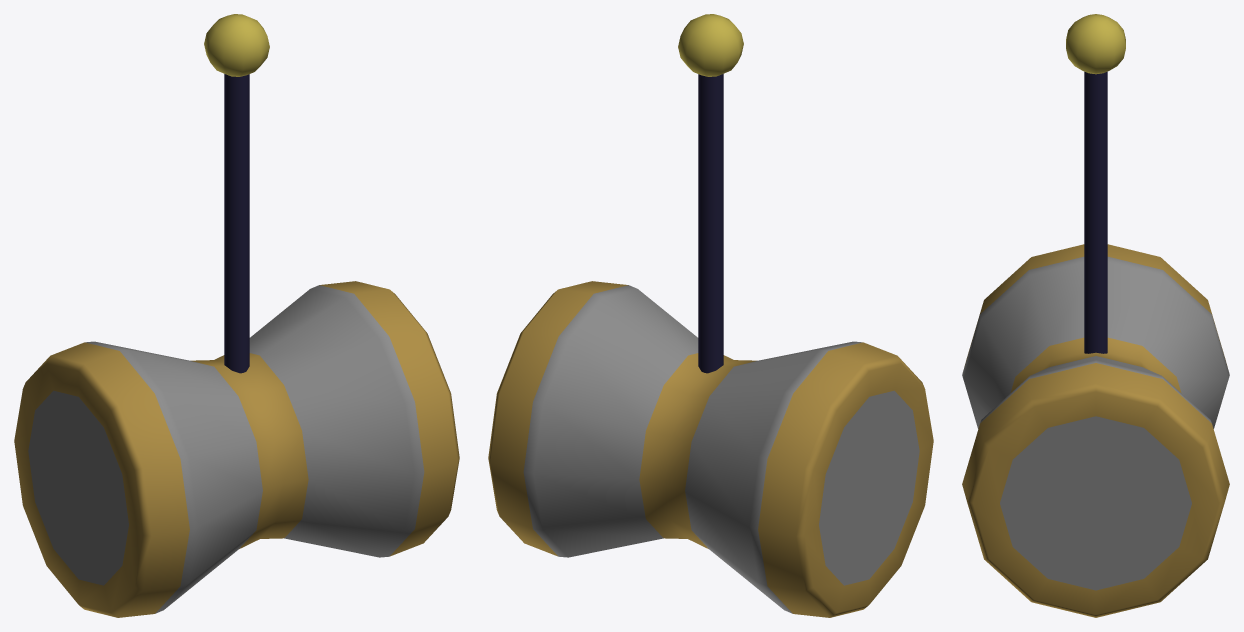
File: Obstacle_01_02.fbx
3 renders of one model, left to right at view 1: azimuth 30°, elevation 25°; view 2: azimuth 150°, elevation 25°; view 3: azimuth 270°, elevation 25°, orthographic. The views are drawn at different scales.
Visible parts, largest first — view 1: Obstacle_0102; view 2: Obstacle_0102; view 3: Obstacle_0102.
Boxes of the visible parts, x1=… form: Obstacle_0102: x1=14, y1=14, x2=459, y2=617; Obstacle_0102: x1=488, y1=14, x2=933, y2=617; Obstacle_0102: x1=962, y1=14, x2=1229, y2=617.
Size of the model in its own units: 158 by 267 by 121.
